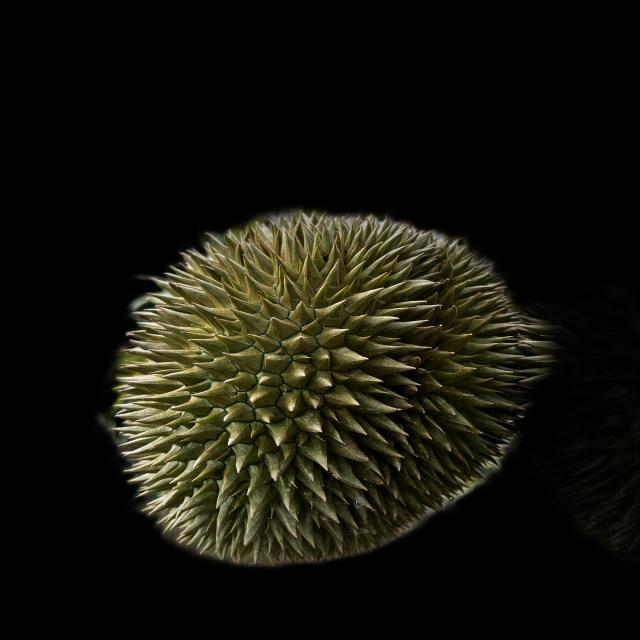immature: (105, 211, 535, 575)
